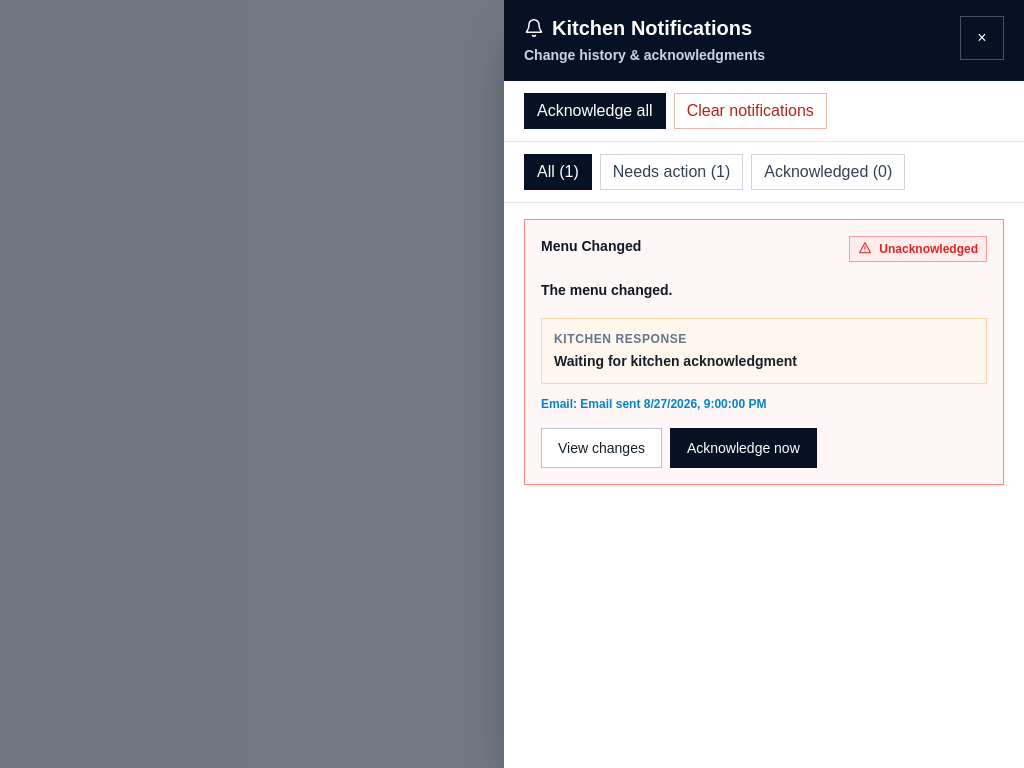
Scenario: KitchenNotificationsDrawer filter › says an empty filter is not an empty feed
Click the button "Acknowledged (0)" at (828, 172), box 751,154 -> 905,190
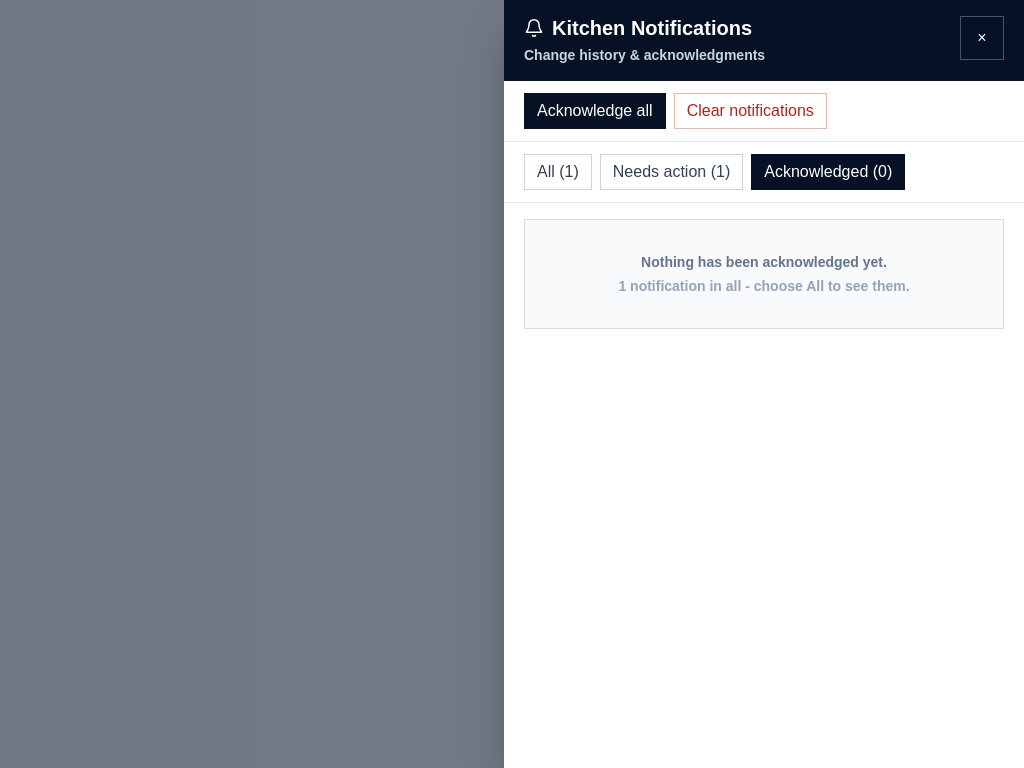
expect the text "Nothing has been acknowledged yet." is shown: met, box 641,254 -> 887,270
expect the text "1 notification in all - choose All to see them." is shown: met, box 618,278 -> 910,294
